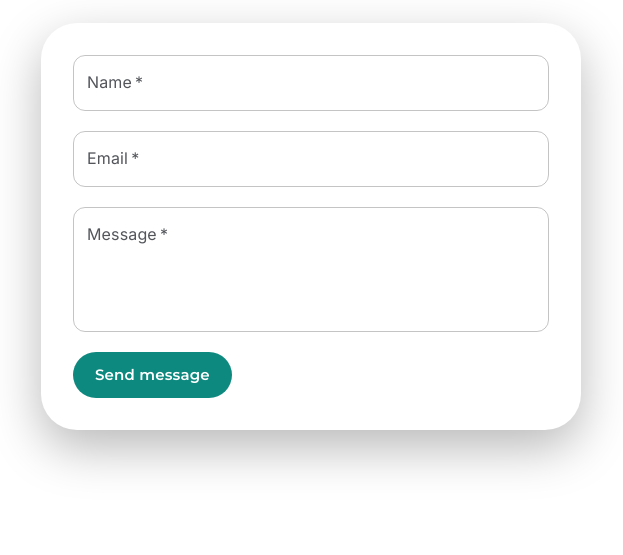
Test: ContactForm › shows an error message when the submission fails
The image size is (623, 555).
Type "Jane Surgeon" into the field labelled "Name *" at coordinates (311, 83), box left=73, top=55, right=549, bottom=111
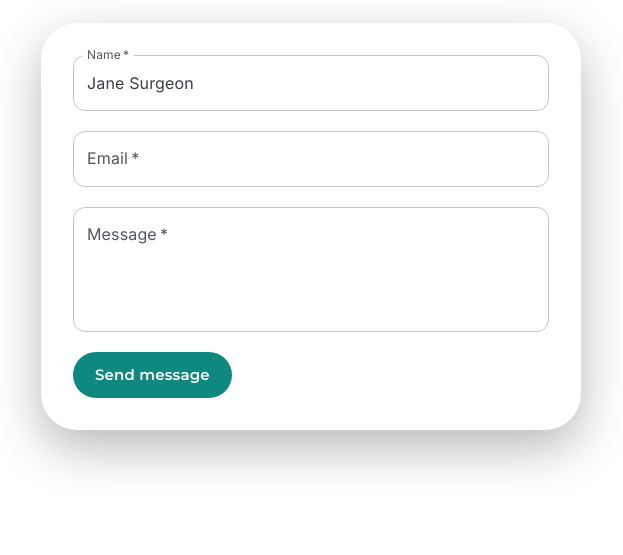
Type "jane@hospital.org" into the field labelled "Email *" at coordinates (311, 159), box left=73, top=131, right=549, bottom=187
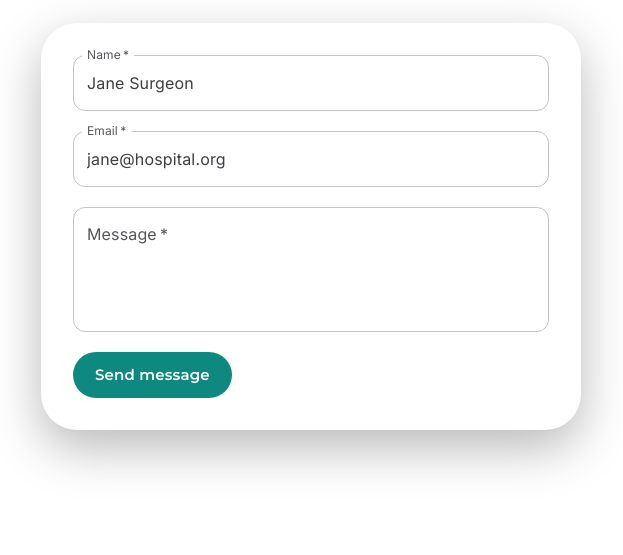
Type "Tell me more." into the text box labelled "Message *" at coordinates (311, 270), box left=87, top=224, right=535, bottom=316
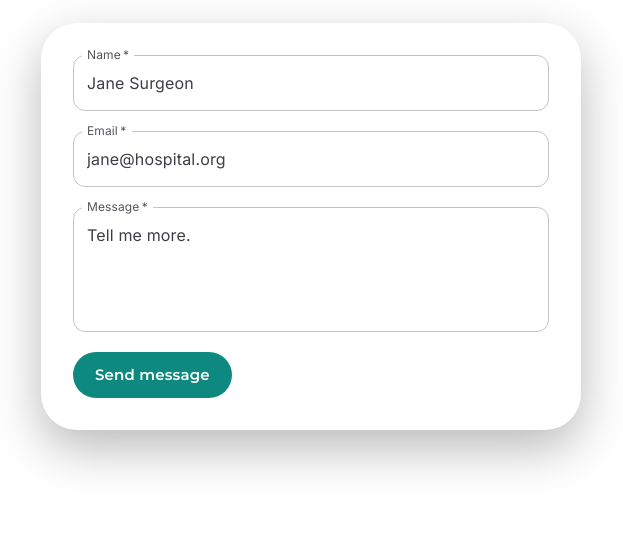
Click the button "Send message" at coordinates (152, 375), box left=73, top=352, right=232, bottom=398
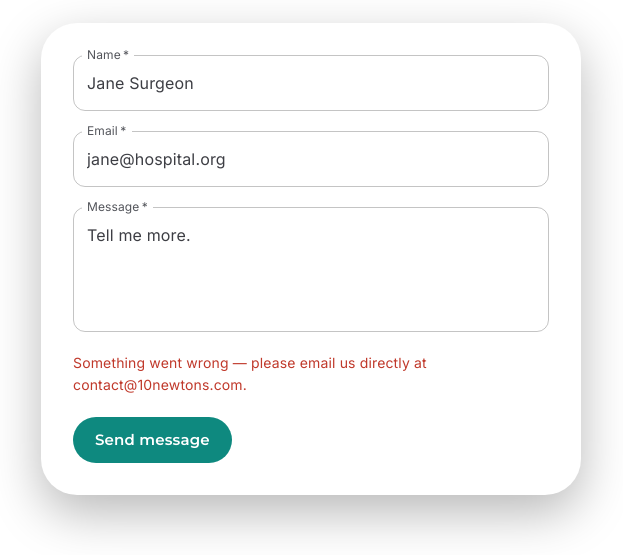
Now the text "Something went wrong" is shown, box left=73, top=354, right=427, bottom=393
